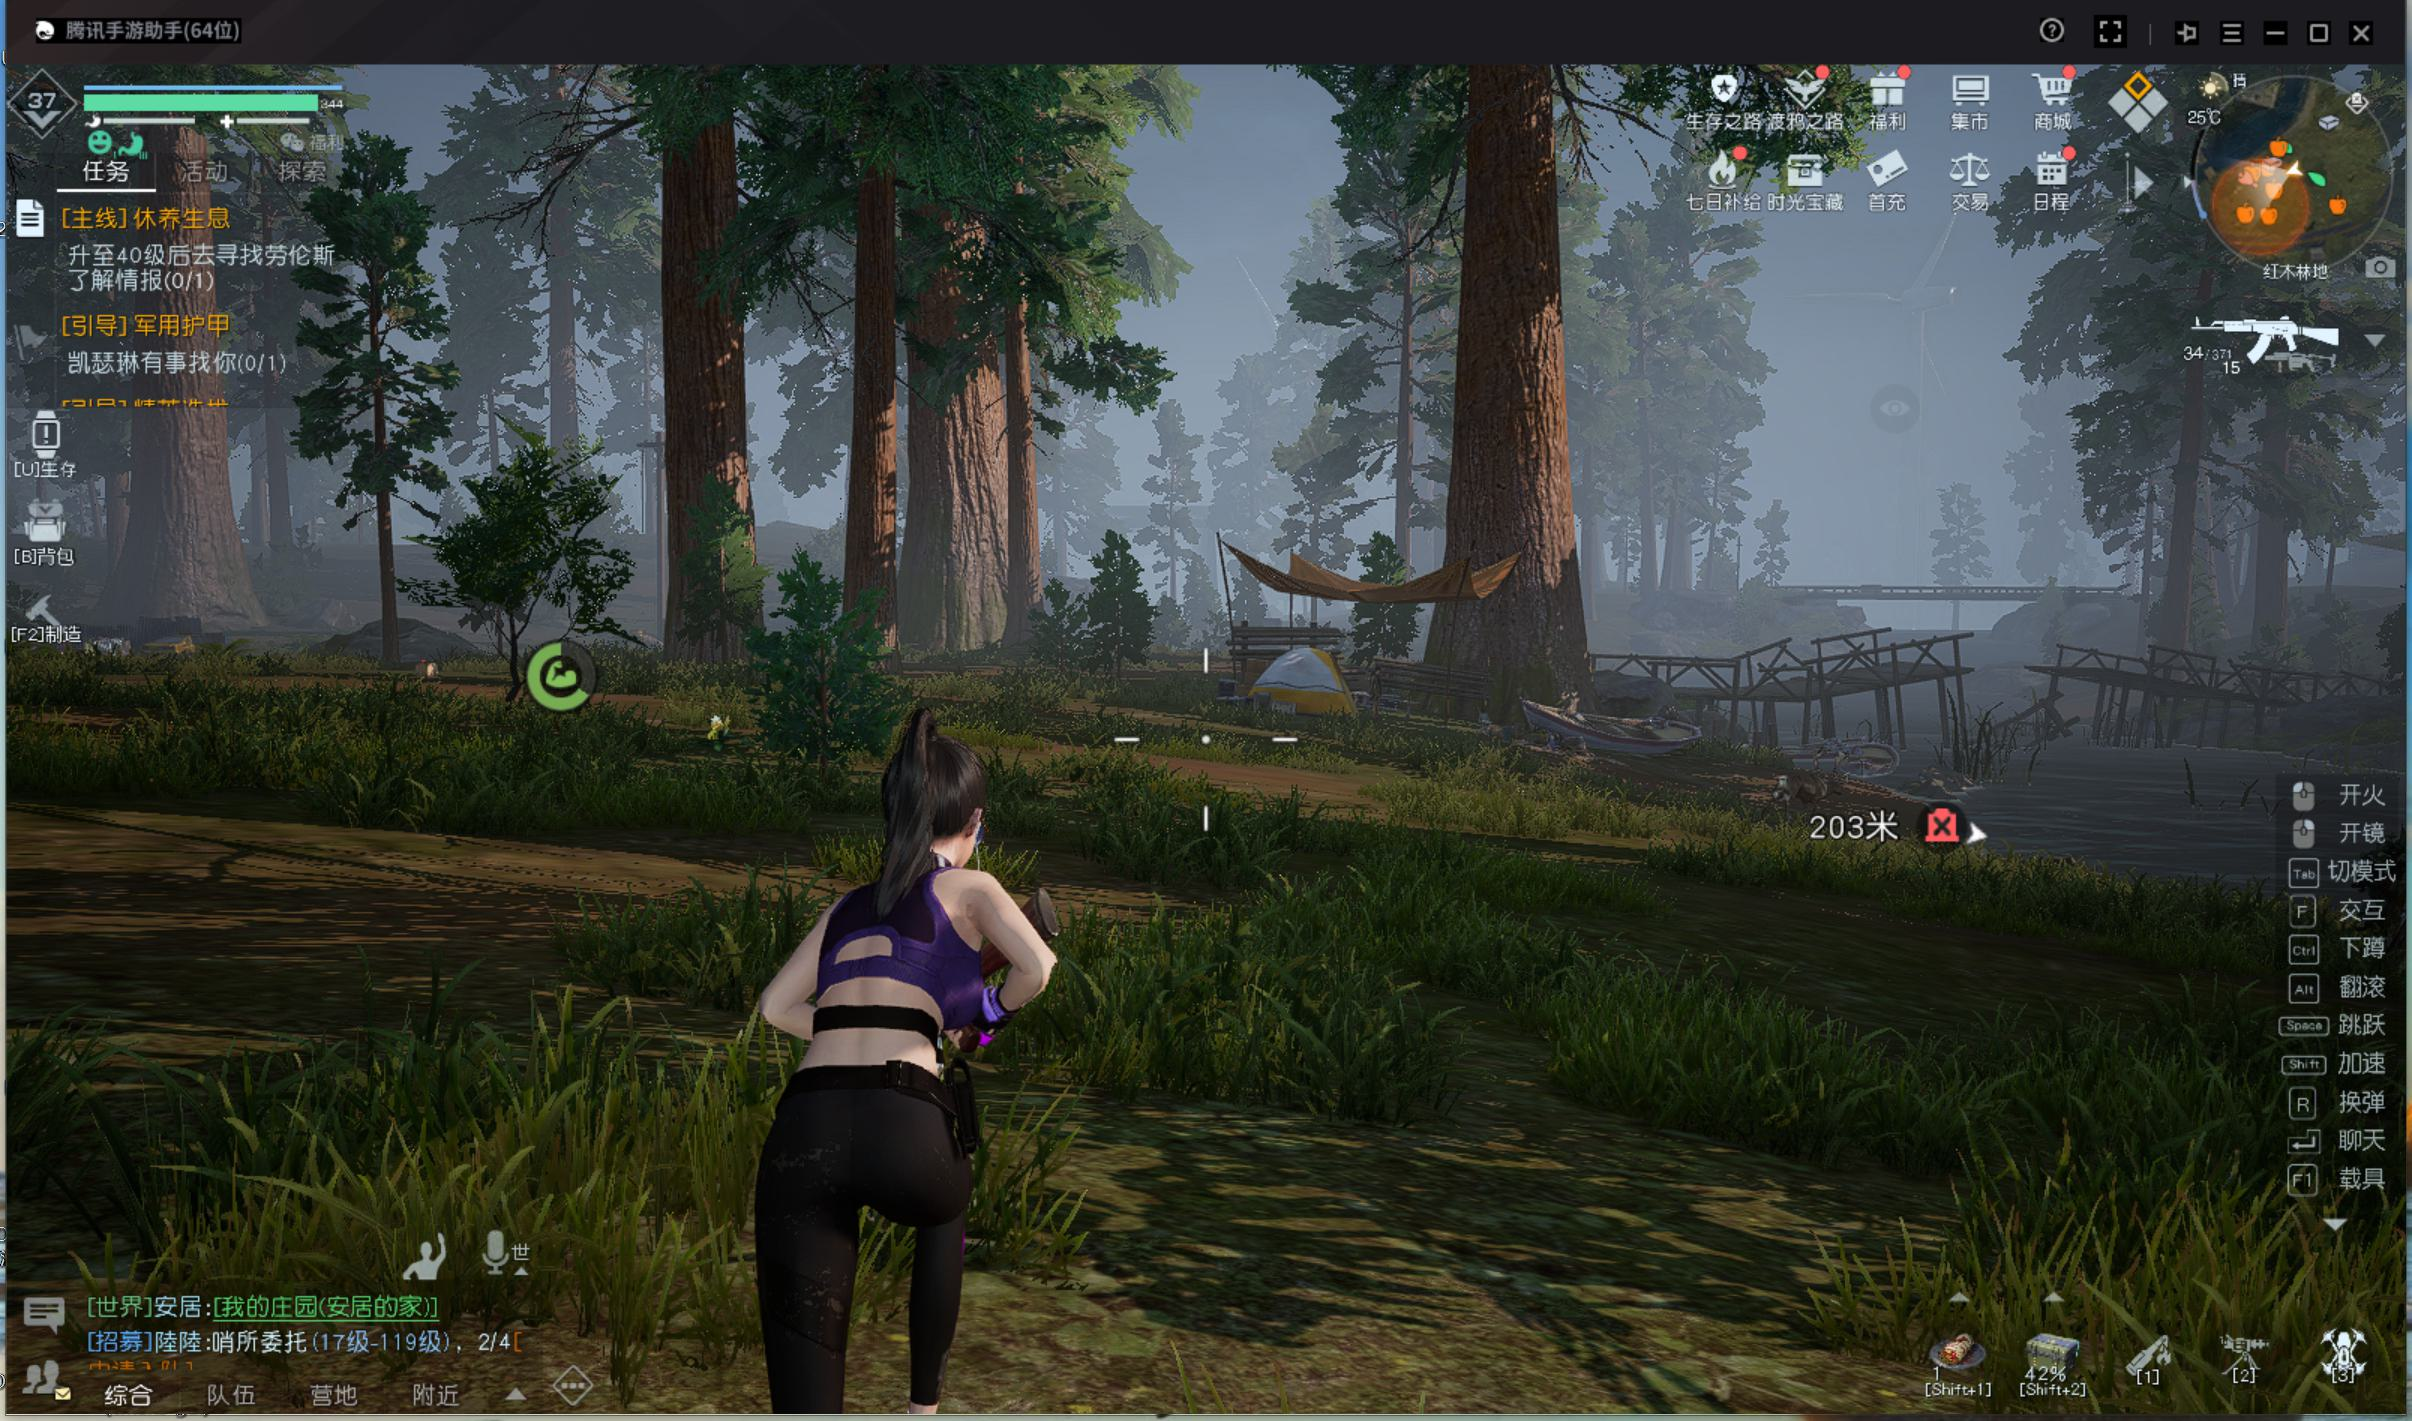tree: (1436, 195, 1592, 743), (638, 227, 768, 699), (836, 232, 902, 678), (995, 283, 1050, 687)
